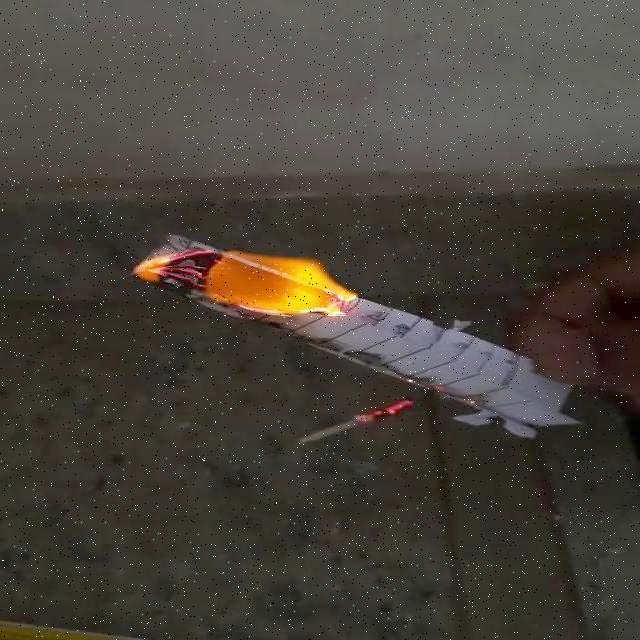fire: (136, 244, 356, 321)
